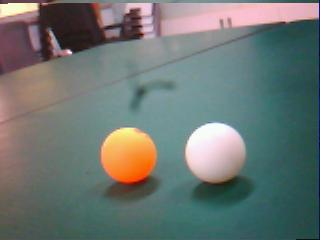oball: (101, 127, 156, 185)
